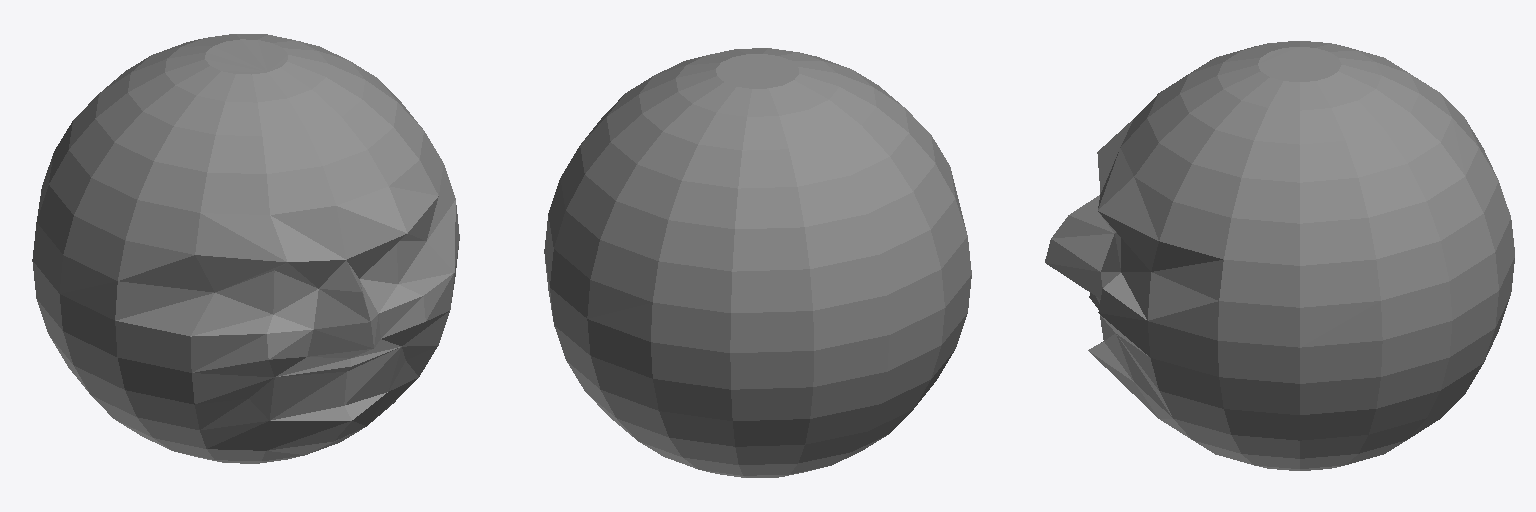
File: moon.obj
3 renders of one model, left to right at view 1: azimuth 30°, elevation 25°; view 2: azimuth 150°, elevation 25°; view 3: azimuth 270°, elevation 25°, orthographic.
Parts seen in each view (by area): view 1: Nemu_AF6C35E_0_340, Nemu_706120E1_0_340, Nemu_706120E1_0_341, Nemu_4AF31E27_0_338, Nemu_706120E1_0_339, Nemu_4D41A950_0_337; view 2: Nemu_706120E1_0_340, Nemu_706120E1_0_341; view 3: Nemu_706120E1_0_340, Nemu_706120E1_0_341, Nemu_AF6C35E_0_340, Nemu_706120E1_0_339, Nemu_4AF31E27_0_338, Nemu_4D41A950_0_337.
Part boxes in pixels (x1,y1,x2,y2): Nemu_AF6C35E_0_340: (191, 128, 453, 429); Nemu_706120E1_0_340: (32, 83, 459, 450); Nemu_706120E1_0_341: (95, 34, 397, 463); Nemu_4AF31E27_0_338: (249, 347, 405, 420); Nemu_706120E1_0_339: (262, 392, 387, 460); Nemu_4D41A950_0_337: (215, 241, 426, 314); Nemu_706120E1_0_340: (544, 95, 971, 464); Nemu_706120E1_0_341: (607, 48, 908, 477); Nemu_706120E1_0_340: (1134, 94, 1514, 458); Nemu_706120E1_0_341: (1147, 41, 1451, 470); Nemu_AF6C35E_0_340: (1045, 93, 1191, 417); Nemu_706120E1_0_339: (1088, 341, 1158, 418); Nemu_4AF31E27_0_338: (1100, 316, 1136, 380); Nemu_4D41A950_0_337: (1115, 232, 1150, 271).
Bounding box in the file's own units: 1.6 × 1.57 × 1.75.